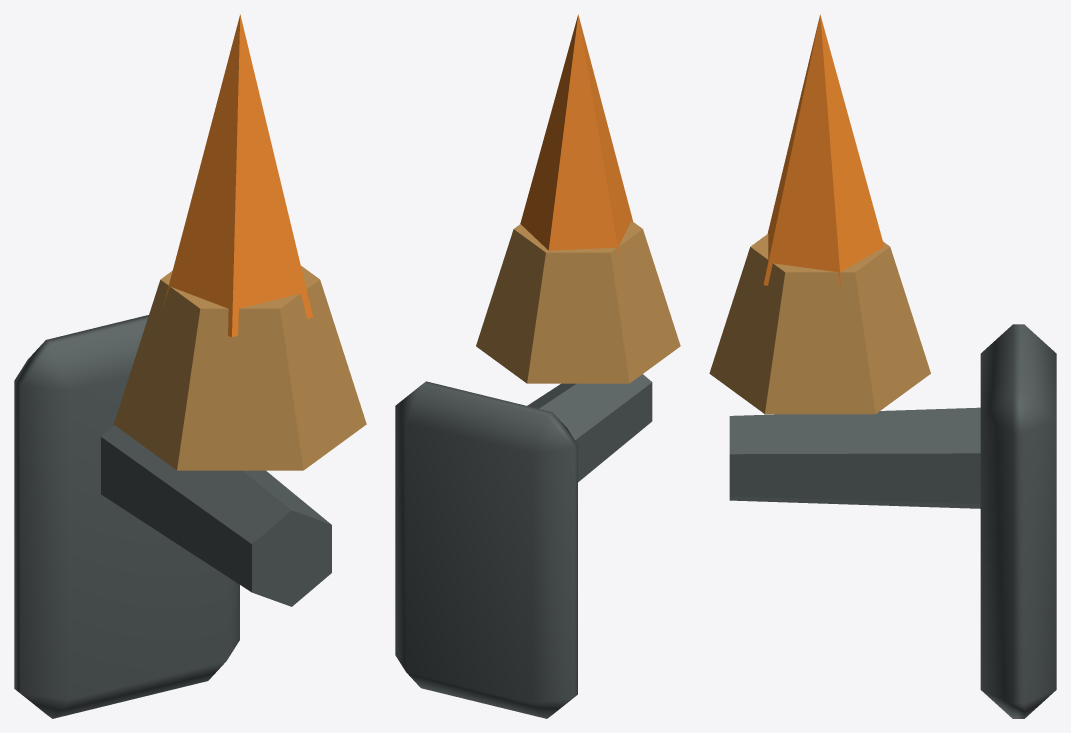
Rendered from torch.glb.
The picture shows the model from 3 angles, left to right: view 1: azimuth 30°, elevation 25°; view 2: azimuth 150°, elevation 25°; view 3: azimuth 270°, elevation 25°; orthographic projection. The views are drawn at different scales.
Parts seen in each view (by area): view 1: MOD | Wall torch | wall plate, MOD | Wall torch | cup, MOD | Wall torch | bracket, MOD | Wall torch | flame; view 2: MOD | Wall torch | wall plate, MOD | Wall torch | cup, MOD | Wall torch | flame, MOD | Wall torch | bracket; view 3: MOD | Wall torch | wall plate, MOD | Wall torch | cup, MOD | Wall torch | bracket, MOD | Wall torch | flame.
Boxes of the visible parts, x1=… form: MOD | Wall torch | wall plate: x1=14, y1=315, x2=239, y2=718; MOD | Wall torch | cup: x1=114, y1=266, x2=366, y2=470; MOD | Wall torch | bracket: x1=101, y1=425, x2=331, y2=606; MOD | Wall torch | flame: x1=162, y1=14, x2=312, y2=336; MOD | Wall torch | wall plate: x1=395, y1=381, x2=577, y2=718; MOD | Wall torch | cup: x1=476, y1=220, x2=680, y2=383; MOD | Wall torch | flame: x1=520, y1=14, x2=632, y2=268; MOD | Wall torch | bracket: x1=527, y1=374, x2=652, y2=482; MOD | Wall torch | wall plate: x1=980, y1=324, x2=1056, y2=718; MOD | Wall torch | cup: x1=709, y1=234, x2=930, y2=414; MOD | Wall torch | bracket: x1=729, y1=407, x2=980, y2=508; MOD | Wall torch | flame: x1=763, y1=14, x2=884, y2=295.
Bounding box in the file's own units: 0.38 × 1.27 × 0.595.
